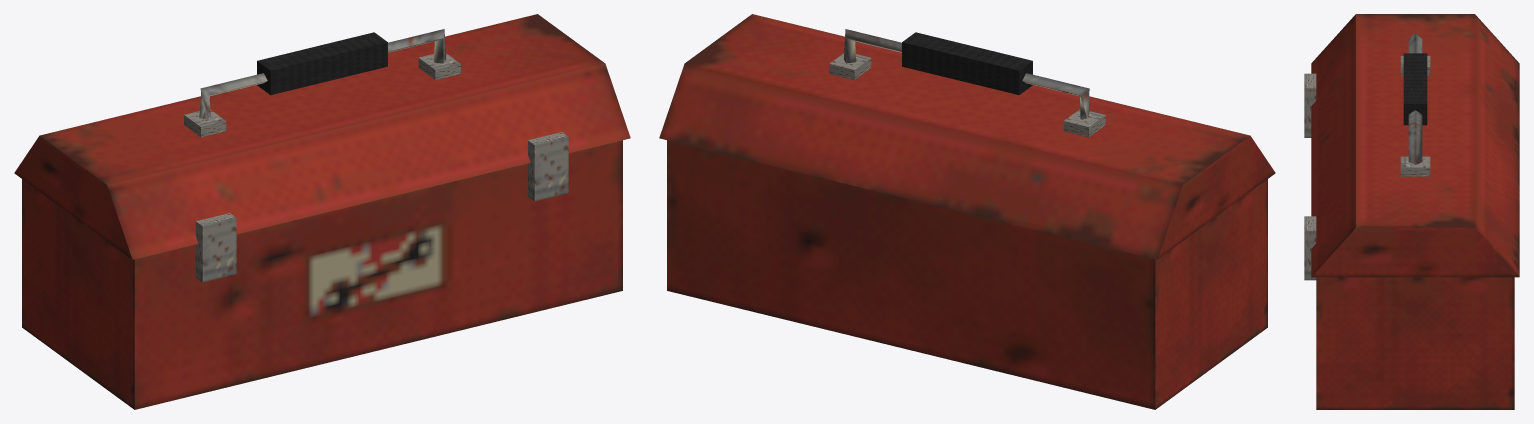
Rendered from toolbox.obj.
The picture shows the model from 3 angles, left to right: view 1: azimuth 30°, elevation 25°; view 2: azimuth 150°, elevation 25°; view 3: azimuth 270°, elevation 25°; orthographic projection. The views are drawn at different scales.
Parts seen in each view (by area): view 1: toolbox; view 2: toolbox; view 3: toolbox.
Part boxes in pixels (bbox=[...]): toolbox: bbox=[14, 14, 630, 409]; toolbox: bbox=[659, 14, 1275, 409]; toolbox: bbox=[1304, 14, 1519, 409].
Bounding box in the file's own units: 0.51 × 0.252 × 0.217.
Materials: 1 (1 with a texture image).
